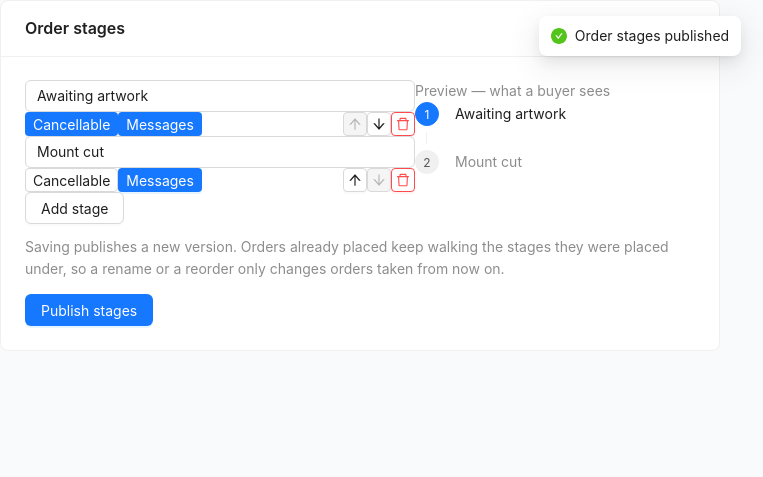
Test: StageEditor › tells the owner to reload when someone else saved first
This screenshot has width=763, height=477.
Click the button "Publish stages" at {"x": 89, "y": 310}, box [25, 294, 153, 326]
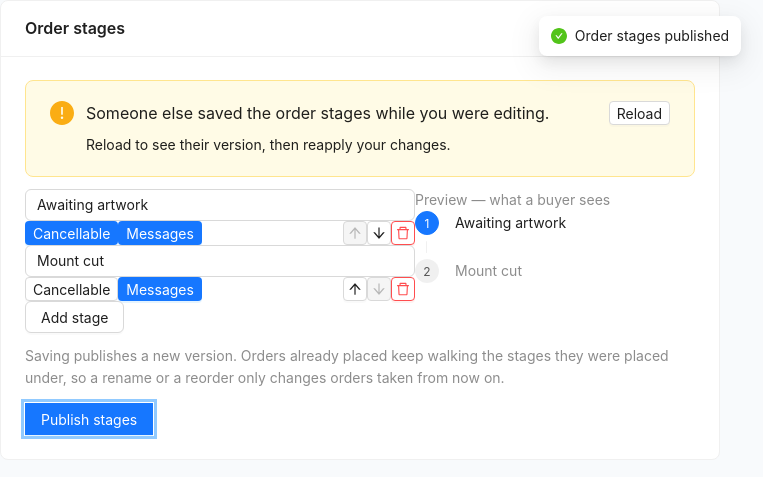
Expected: the text "Someone else saved the order stages while you were editing." is shown, [86, 101, 609, 126]
